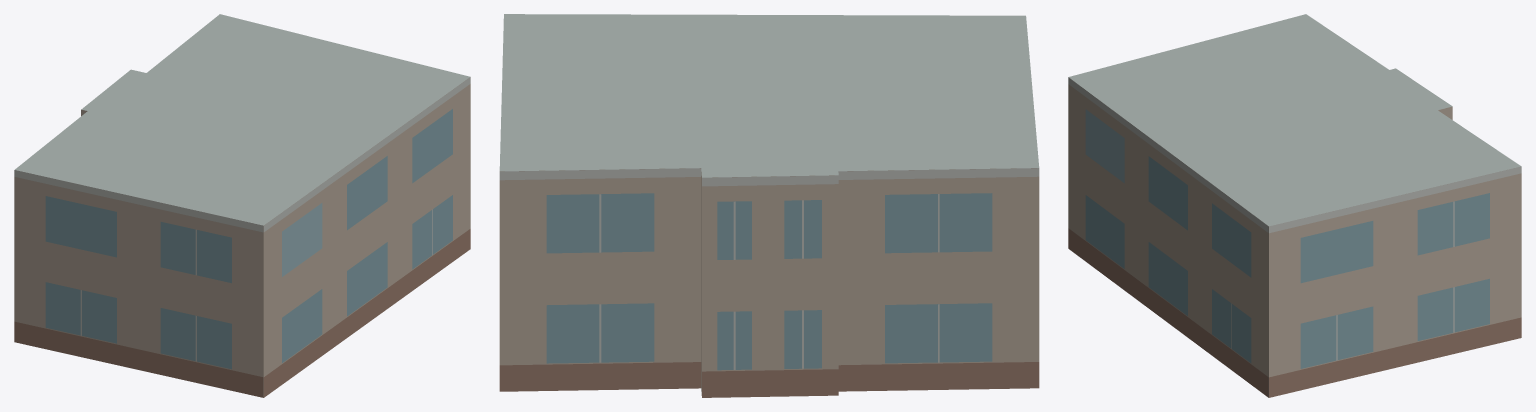
Rendered from survey-upis-32674340.glb.
The picture shows the model from 3 angles, left to right: view 1: azimuth 30°, elevation 25°; view 2: azimuth 150°, elevation 25°; view 3: azimuth 270°, elevation 25°; orthographic projection. The views are drawn at different scales.
Parts seen in each view (by area): view 1: survey-upis-32674340.tmp; view 2: survey-upis-32674340.tmp; view 3: survey-upis-32674340.tmp.
Boxes of the visible parts, x1,y1,x2,y2 form: survey-upis-32674340.tmp: (14,14,470,397); survey-upis-32674340.tmp: (499,14,1039,397); survey-upis-32674340.tmp: (1068,14,1521,397).
Size of the model in its own units: 16.22 by 6.1 by 14.63.
